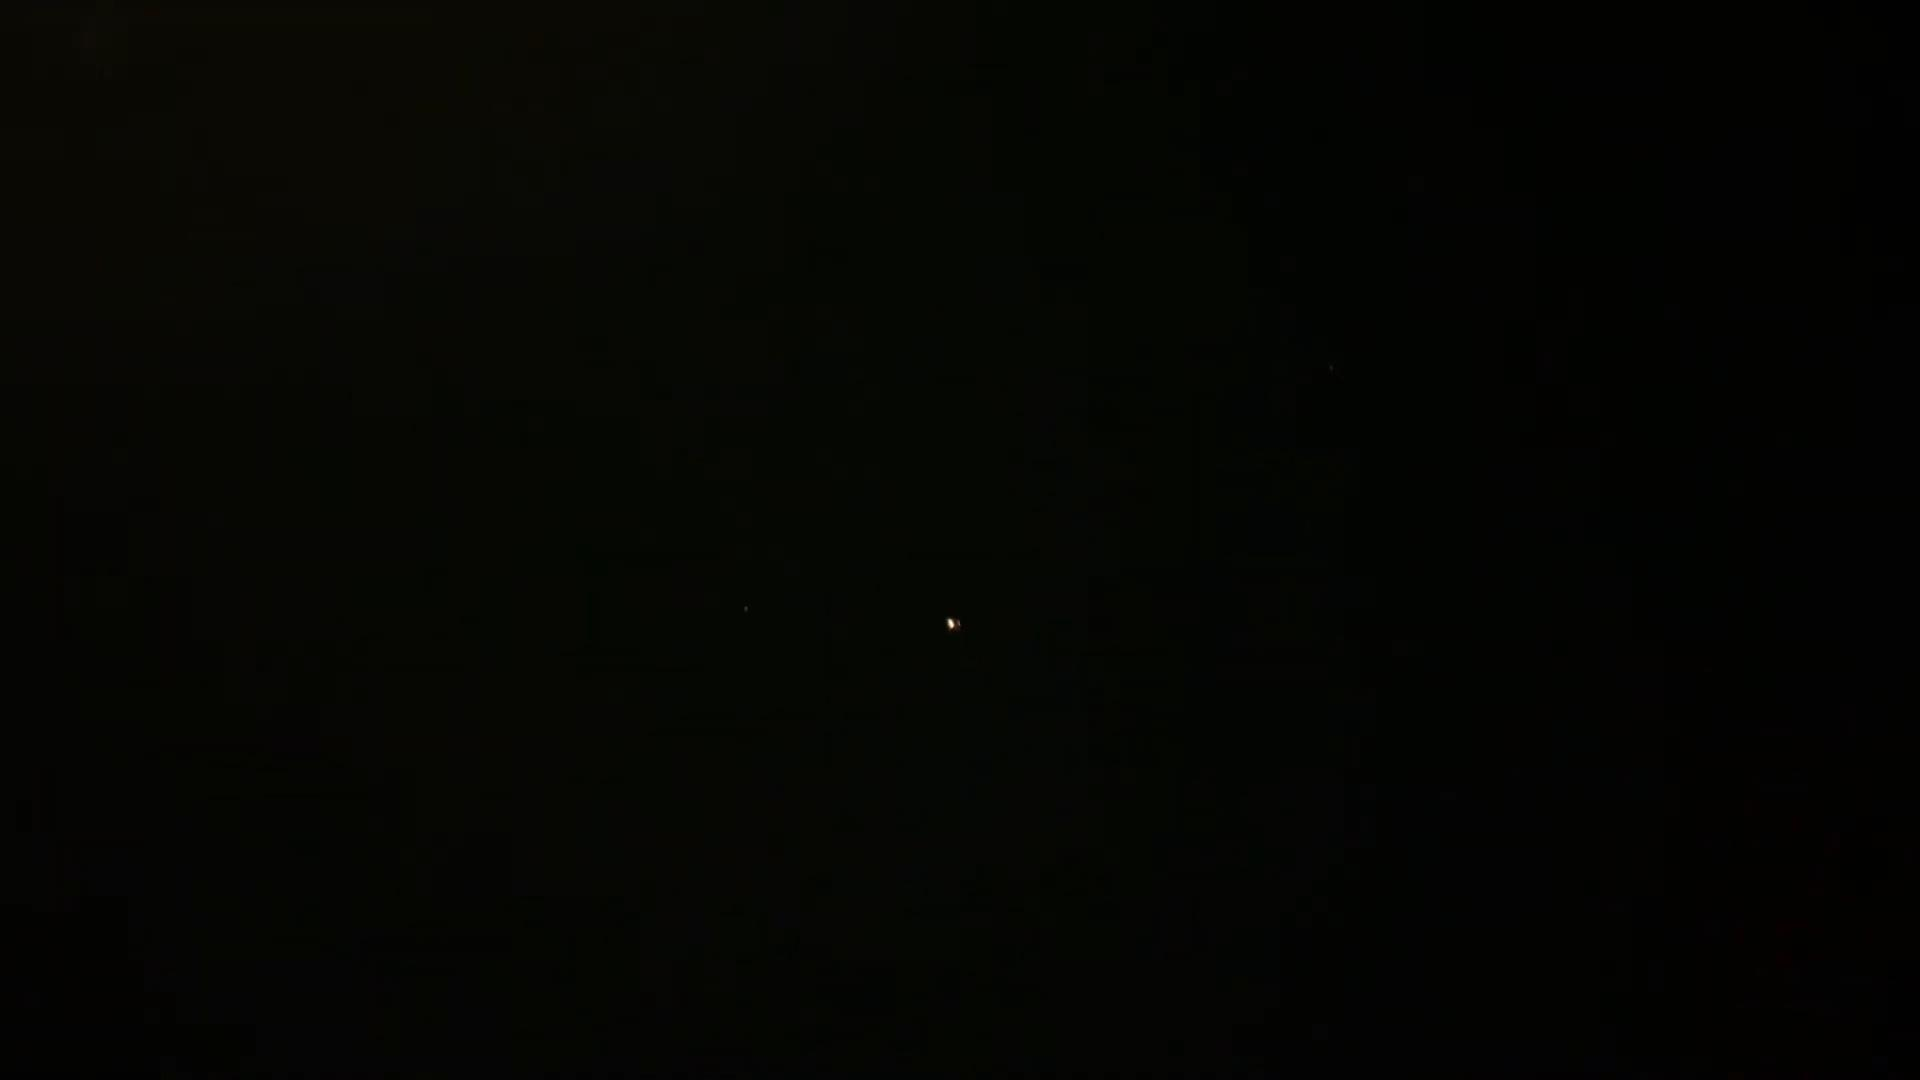Plane: (932, 607, 977, 645)
